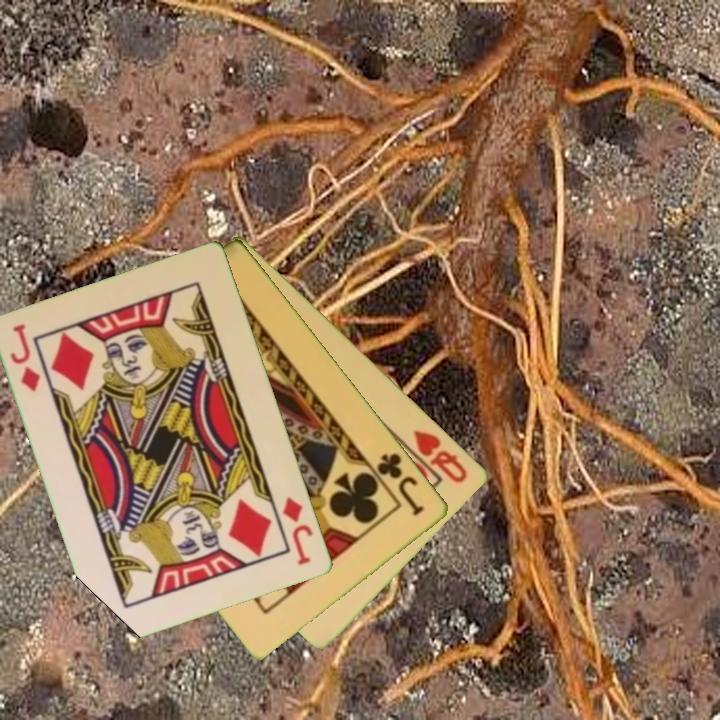Jc: (374, 449, 428, 519)
Jd: (279, 493, 317, 569), (7, 320, 44, 395)
Qh: (409, 425, 471, 486)
